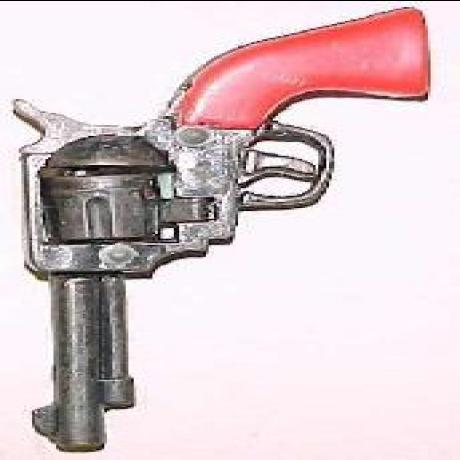weapon: (10, 6, 434, 460)
